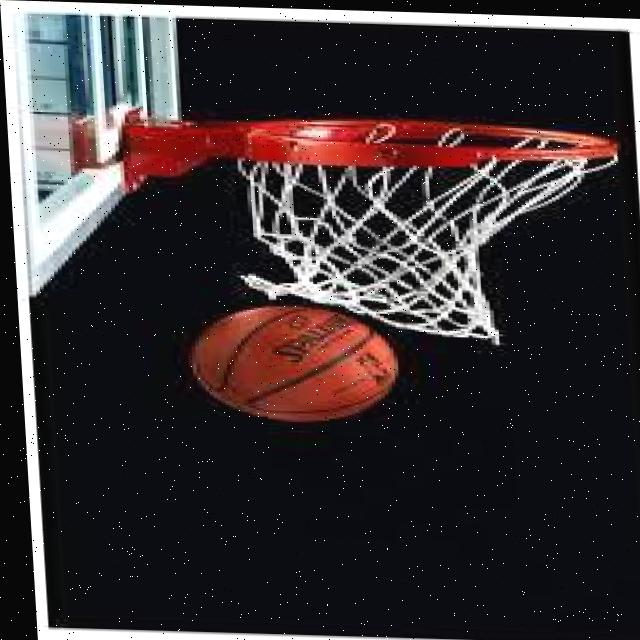basketball: (189, 304, 398, 423)
hoop: (250, 116, 631, 312)
